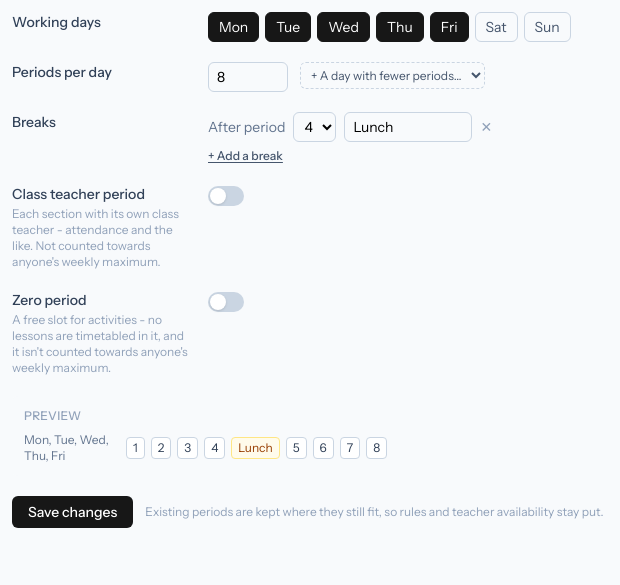
Test: saving › shows the server's reason when it refuses
expect the text "Working days" is shown: met, box [12,13,101,31]
Click the button "Save changes": x=73, y=512 [12,496,133,528]
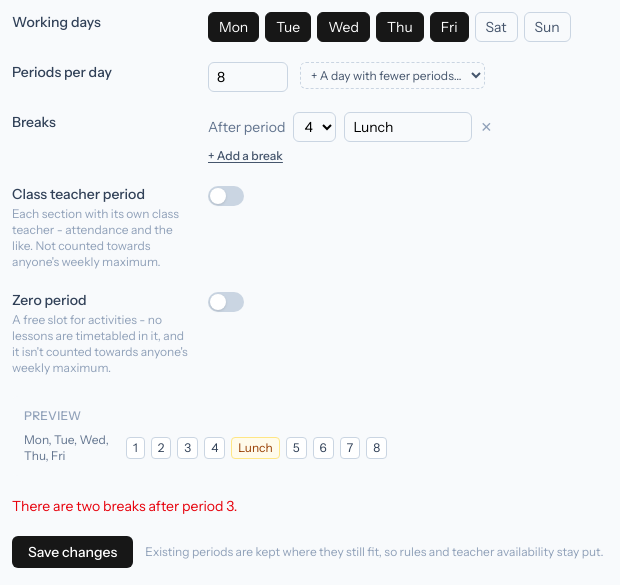
expect the text "There are two breaks after period 3." is shown: met, box [12,497,237,515]
